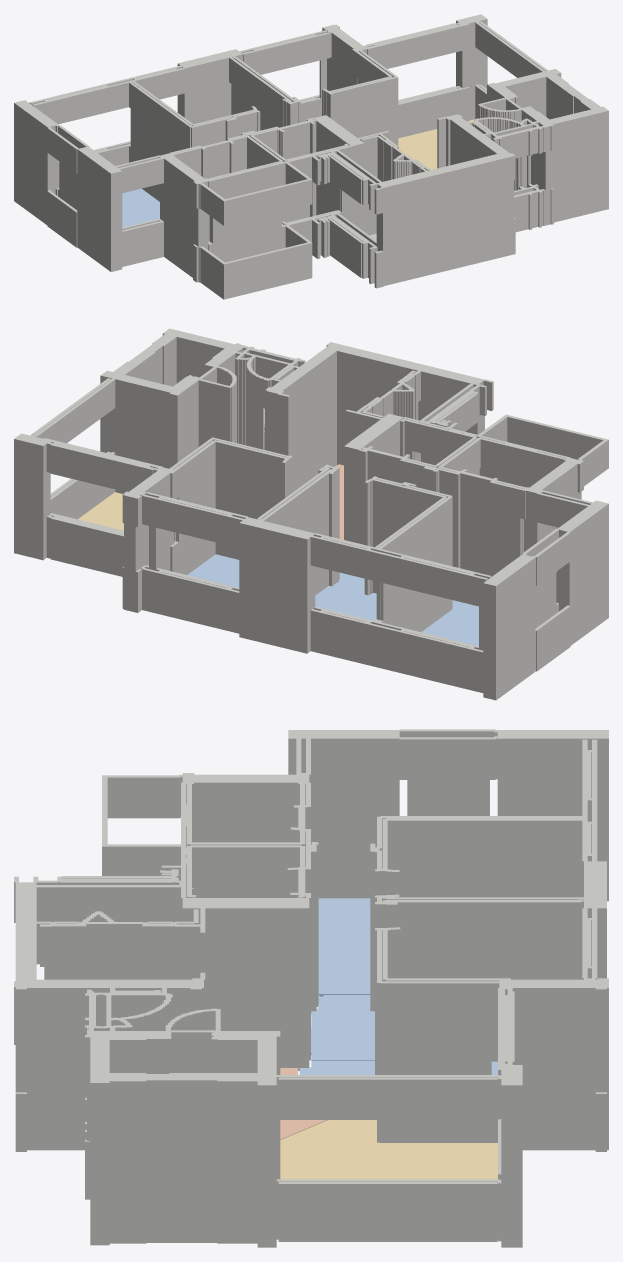
3 views of the same model, one above another, from view 1: azimuth 30°, elevation 25°; view 2: azimuth 150°, elevation 25°; view 3: azimuth 270°, elevation 25° (orthographic). The views are drawn at different scales.
Visible parts, largest first — view 1: walls, room:bedroom:0, room:living:2; view 2: walls, room:bedroom:1, room:bedroom:0, room:bedroom:3, room:living:2; view 3: walls, room:living:2, room:bedroom:0, room:bedroom:1, room:bedroom:3.
Boxes of the visible parts, x1,y1,x2,y2 form: walls: (14,14,608,299); room:bedroom:0: (122,188,159,227); room:living:2: (398,119,474,169); walls: (14,328,608,700); room:bedroom:1: (315,572,376,620); room:bedroom:0: (421,600,478,646); room:bedroom:3: (187,554,239,587); room:living:2: (78,492,123,530); walls: (14,729,608,1247); room:living:2: (280,1120,497,1179); room:bedroom:0: (318,898,370,996); room:bedroom:1: (311,995,374,1060); room:bedroom:3: (299,1060,497,1074).
Bounding box in the file's own units: 13.16 × 2.8 × 9.29.
